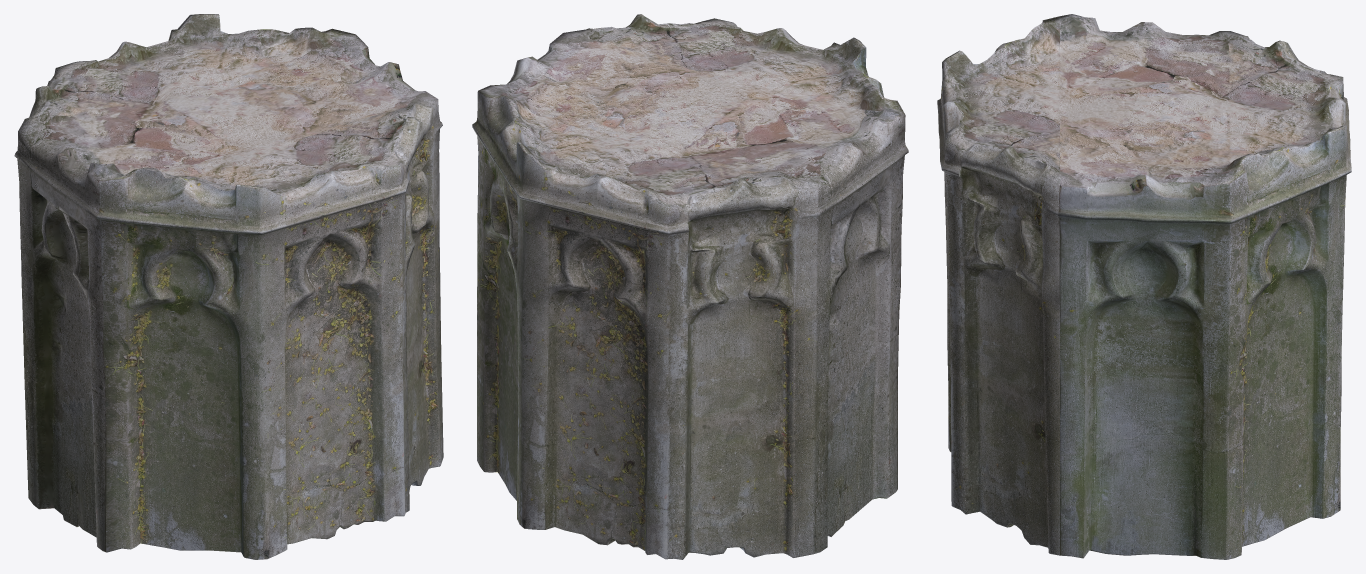
The model's file is sm_Column_01_01.fbx.
3 renders of one model, left to right at view 1: azimuth 30°, elevation 25°; view 2: azimuth 150°, elevation 25°; view 3: azimuth 270°, elevation 25°, orthographic.
Visible parts, largest first — view 1: sm_Column_01_01_LOD0; view 2: sm_Column_01_01_LOD0; view 3: sm_Column_01_01_LOD0.
Boxes of the visible parts, x1,y1,x2,y2 form: sm_Column_01_01_LOD0: (14,14,443,559); sm_Column_01_01_LOD0: (472,14,908,559); sm_Column_01_01_LOD0: (937,14,1351,559).
Size of the model in its own units: 65.18 by 65.92 by 70.59.
